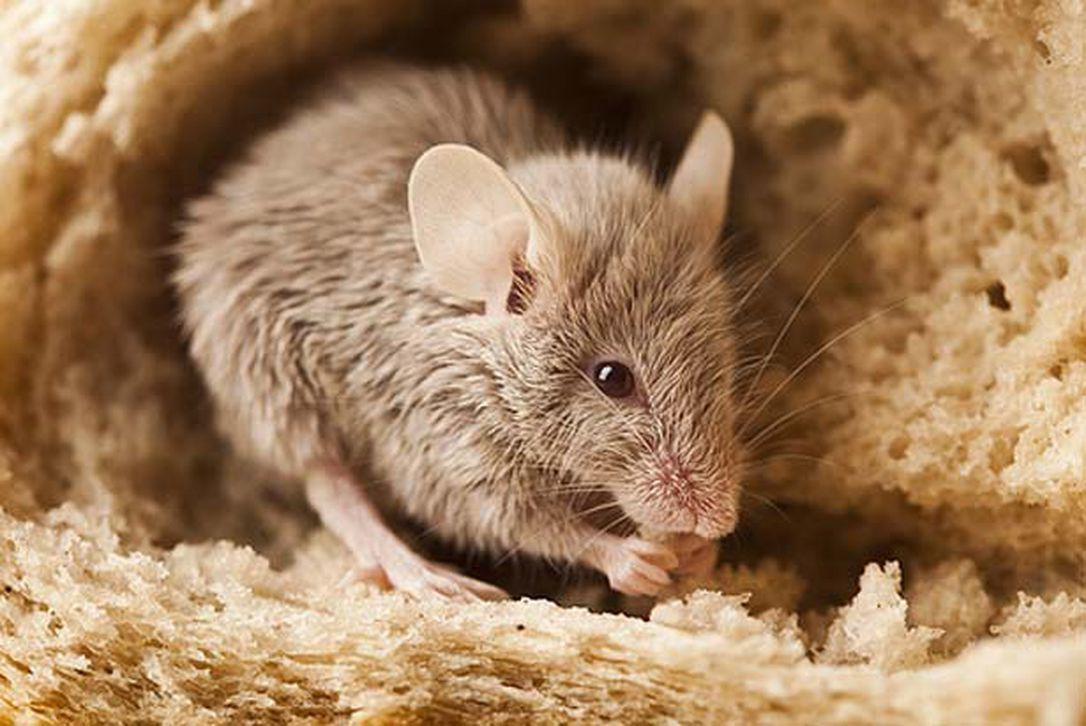rat: (170, 64, 740, 604)
